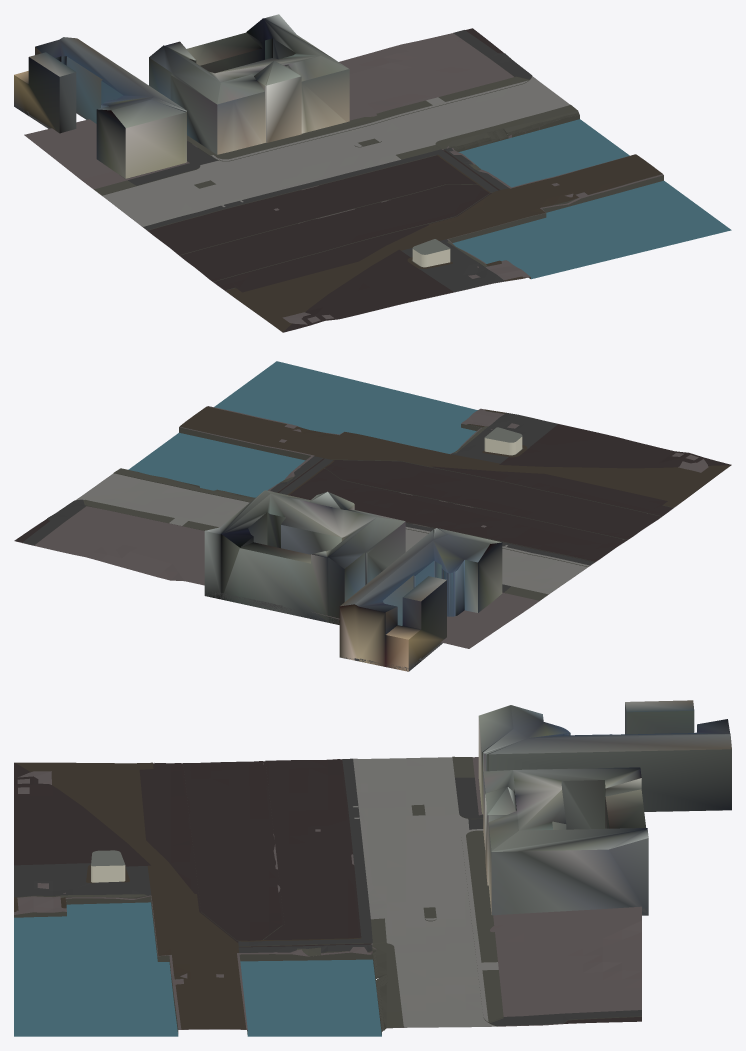
3 renders of one model, top to bottom at view 1: azimuth 30°, elevation 25°; view 2: azimuth 150°, elevation 25°; view 3: azimuth 270°, elevation 25°, orthographic. The views are drawn at different scales.
Visible parts, largest first — view 1: c_p01_p01; view 2: c_p01_p01; view 3: c_p01_p01.
Part boxes in pixels (x1,y1,x2,y2): c_p01_p01: (14, 14, 731, 332); c_p01_p01: (14, 361, 731, 671); c_p01_p01: (14, 700, 731, 1036).
Bounding box in the file's own units: 128 × 22.45 × 146.
